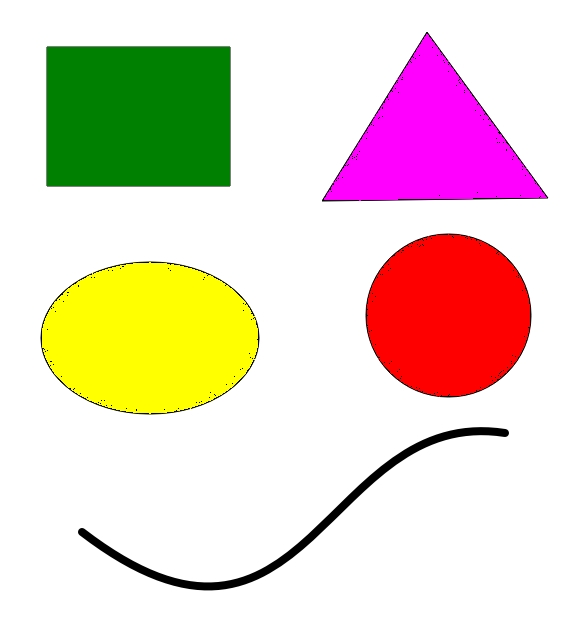circle: (364, 233, 532, 397)
ellipse: (42, 260, 263, 414)
line: (71, 425, 516, 594)
rectangle: (42, 43, 233, 189)
triangle: (321, 31, 552, 202)
